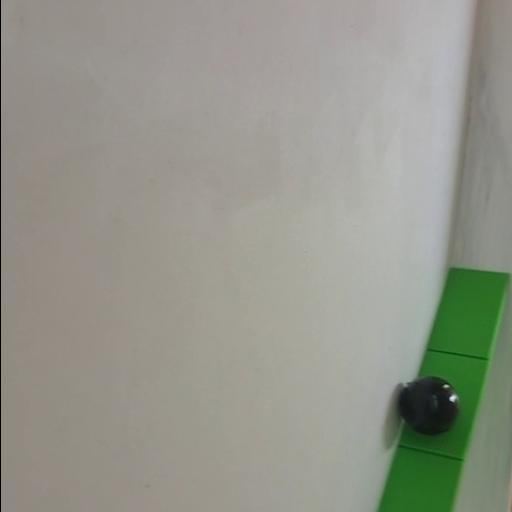dead: (397, 375, 461, 438)
